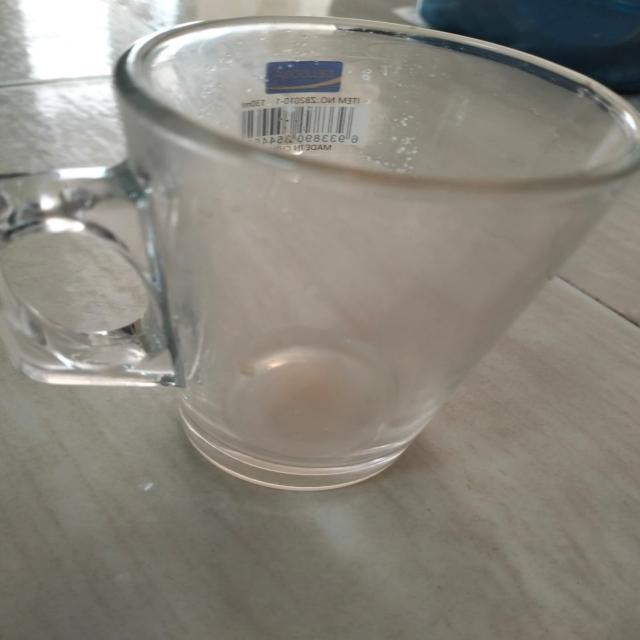glass-VX4N: (0, 18, 640, 493)
